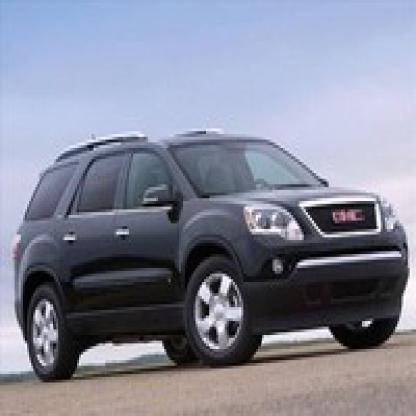Vehicle: (14, 128, 406, 414)
